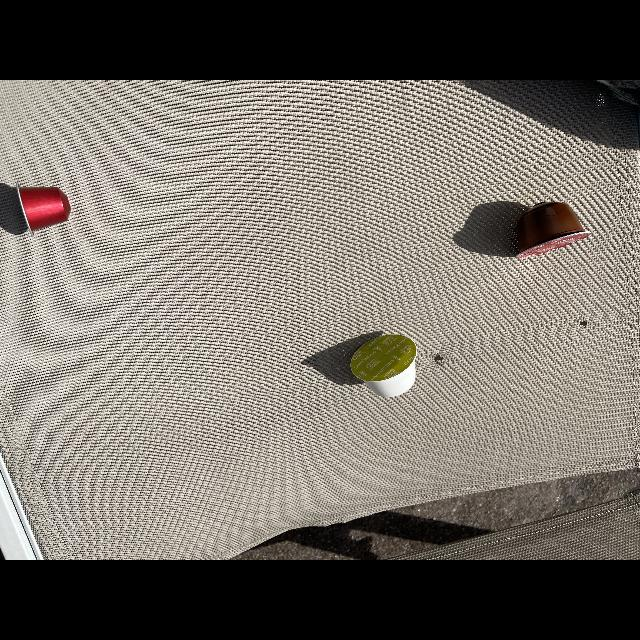intact_capsule: (345, 332, 429, 411), (509, 198, 596, 260), (11, 179, 81, 237)
